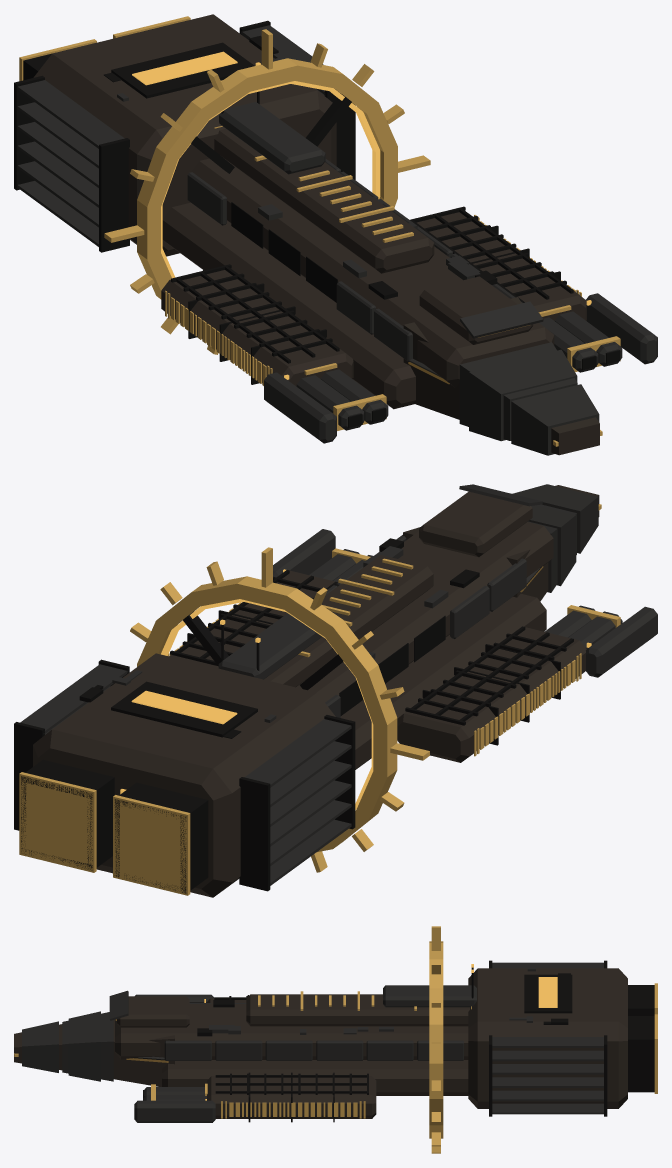
The model's file is goniec-wybudzeni-hawk-7-lod0.glb.
3 renders of one model, top to bottom at view 1: azimuth 30°, elevation 25°; view 2: azimuth 150°, elevation 25°; view 3: azimuth 270°, elevation 25°, orthographic. The views are drawn at different scales.
Bounding box in the file's own units: 5.74 × 5.4 × 13.95.
